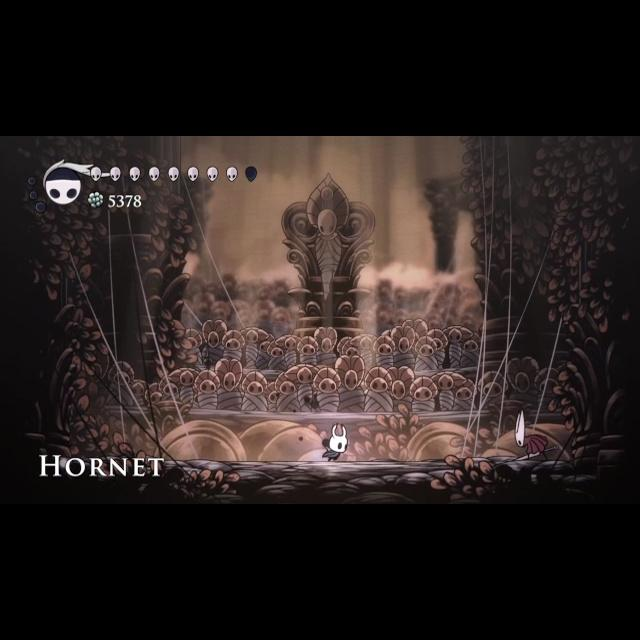Enemy: (511, 407, 561, 463)
Player: (318, 418, 356, 466)
